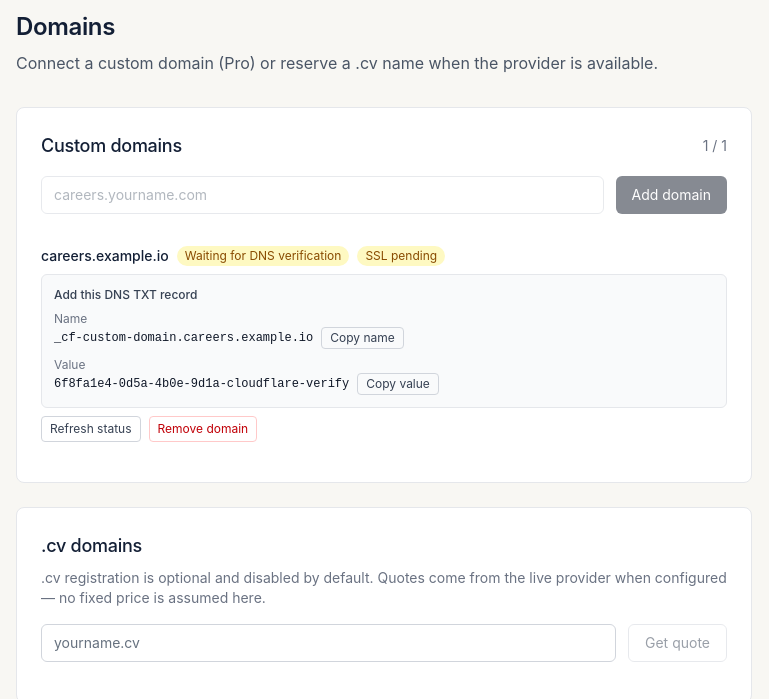
Test: Domains page: provider-accurate verification UI › 4. refresh updates a pending_validation row to Active immediately
The image size is (769, 699).
Expected: the text "Waiting for DNS verification" is shown, [177,246,349,266]
Click the button "Refresh status": x=91, y=429 [41,416,140,442]
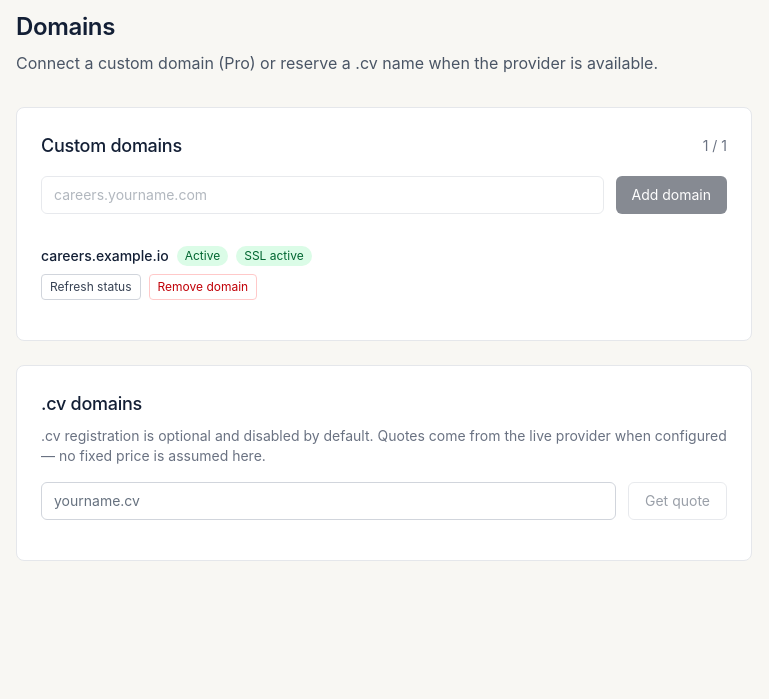
Now the text "Active" is shown, box [177,246,228,266]
Now the text "Waiting for DNS verification" is gone
Now the text "SSL active" is shown, box [236,246,312,266]
